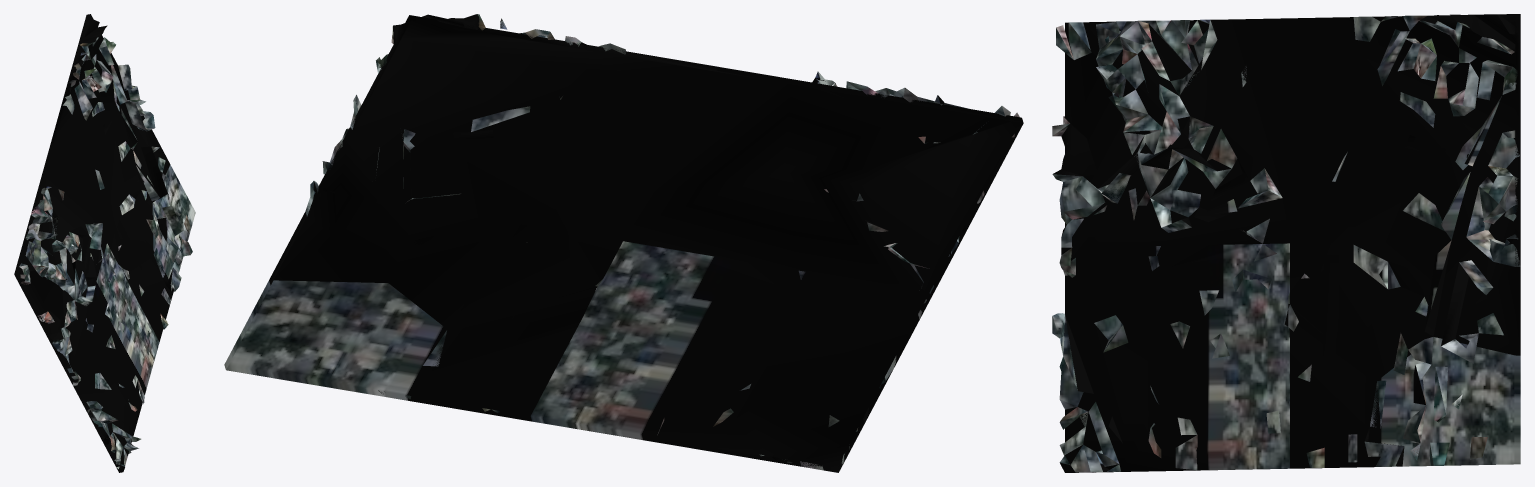
3 views of the same model, side by side, from view 1: azimuth 30°, elevation 25°; view 2: azimuth 150°, elevation 25°; view 3: azimuth 270°, elevation 25° (orthographic). The views are drawn at different scales.
Visible parts, largest first — view 1: node_304362727043625_mesh0; view 2: node_304362727043625_mesh0; view 3: node_304362727043625_mesh0.
Part boxes in pixels (box(x1,y1,x2,y2)): node_304362727043625_mesh0: box(14, 14, 195, 472); node_304362727043625_mesh0: box(224, 14, 1023, 472); node_304362727043625_mesh0: box(1052, 14, 1520, 472).
Bounding box in the file's own units: 1162 × 1165 × 907.
1 material, 1 textured.
